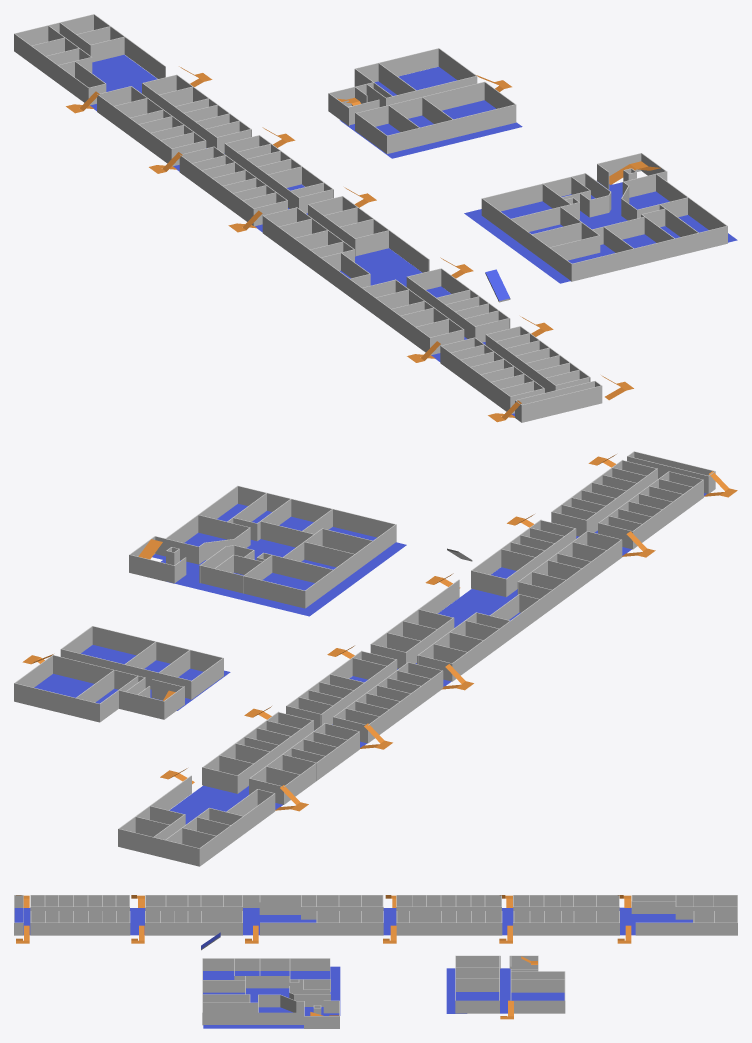
The model's file is piani0.fbx.
3 views of the same model, one above another, from view 1: azimuth 30°, elevation 25°; view 2: azimuth 150°, elevation 25°; view 3: azimuth 270°, elevation 25° (orthographic). The views are drawn at different scales.
Parts seen in each view (by area): view 1: FP0-walls, F2P0.walls, F3P0.walls, FP0.floor, F2P0.floor, F3P0.floor; view 2: FP0-walls, F2P0.walls, F3P0.walls, FP0.floor, F2P0.floor, F3P0.floor; view 3: FP0-walls, F2P0.walls, F3P0.walls, FP0.floor, F2P0.floor, F3P0.floor.
Part boxes in pixels (x1=…): FP0-walls: x1=14, y1=14, x2=602, y2=422; F2P0.walls: x1=481, y1=153, x2=727, y2=281; F3P0.walls: x1=328, y1=48, x2=516, y2=153; FP0.floor: x1=66, y1=54, x2=633, y2=422; F2P0.floor: x1=464, y1=161, x2=737, y2=302; F3P0.floor: x1=337, y1=66, x2=522, y2=158; FP0-walls: x1=118, y1=451, x2=715, y2=866; F2P0.walls: x1=129, y1=485, x2=396, y2=608; F3P0.walls: x1=14, y1=626, x2=223, y2=722; FP0.floor: x1=160, y1=454, x2=737, y2=824; F2P0.floor: x1=138, y1=504, x2=472, y2=616; F3P0.floor: x1=22, y1=645, x2=230, y2=710; FP0-walls: x1=14, y1=895, x2=737, y2=935; F2P0.walls: x1=202, y1=958, x2=339, y2=1028; F3P0.walls: x1=455, y1=955, x2=565, y2=1013; FP0.floor: x1=14, y1=895, x2=692, y2=943; F2P0.floor: x1=201, y1=932, x2=340, y2=1028; F3P0.floor: x1=446, y1=956, x2=564, y2=1019.
Bounding box in the file's own units: 944 × 49.47 × 2232.
